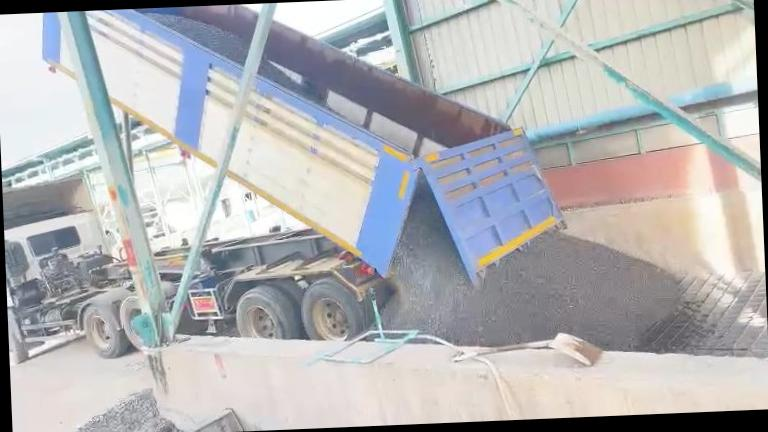gravel: (67, 389, 176, 432)
